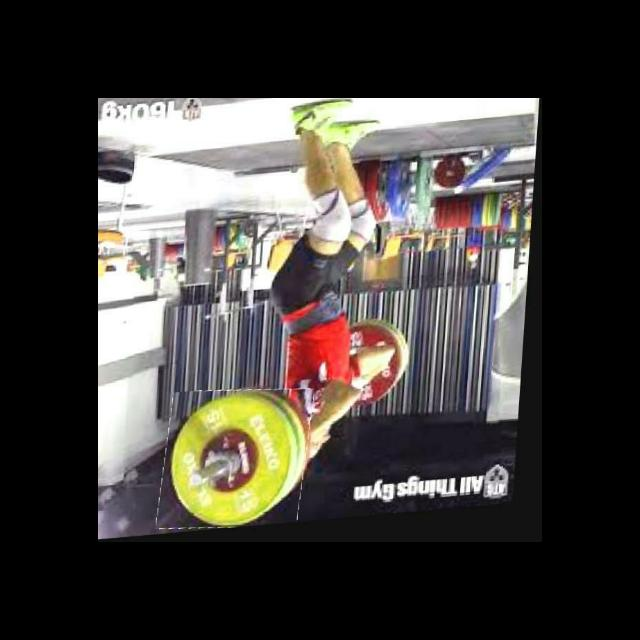barbell: (163, 387, 317, 536)
